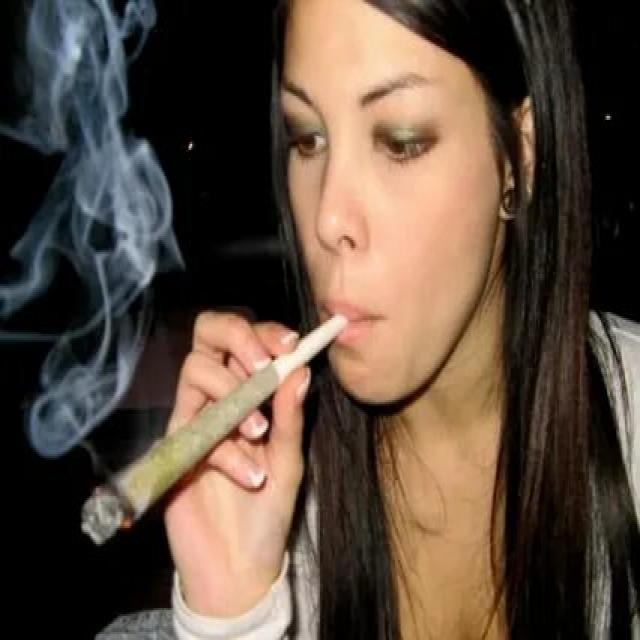smoke: (78, 310, 353, 548)
